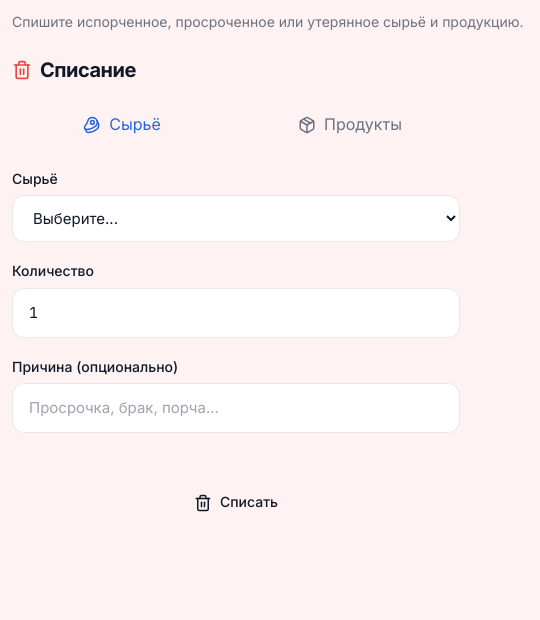
Test case: WriteOffManager › shows warning when quantity exceeds stock
Select "Sugar (остаток: 10 kg)" in the dropdown. click: (236,219)
box: [12,195,460,242]
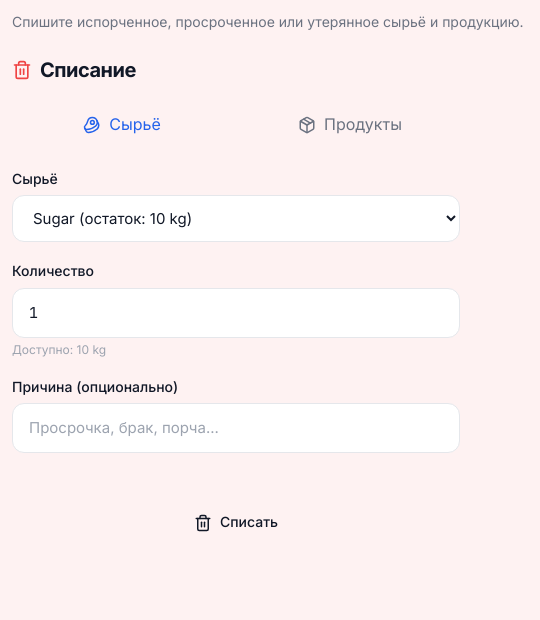
Replace the text in the number field with "15". click: (236,313)
box: [12,288,460,338]
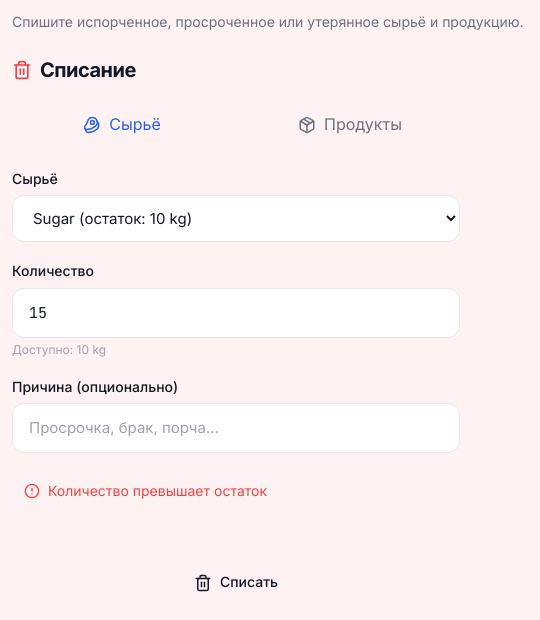
Expected: the text "Количество превышает остаток" is shown, [48,481,267,501]
Expected: the button "Списать" is disabled, [12,561,460,604]
